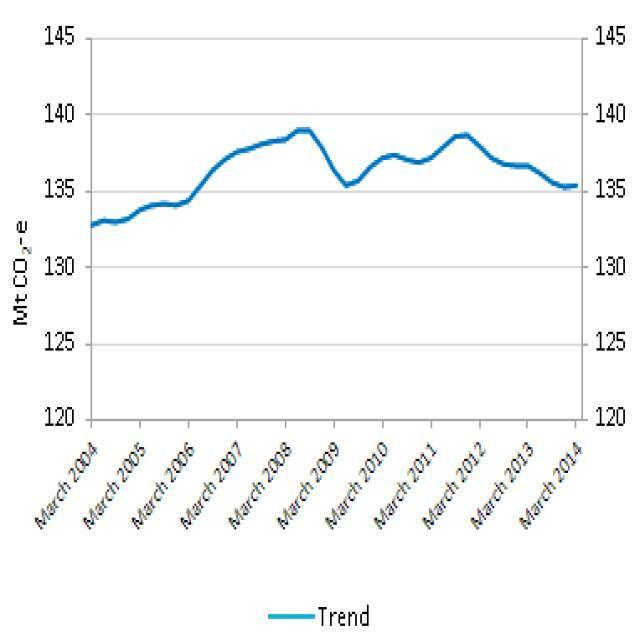axis: (83, 415, 594, 431), (80, 27, 97, 435)
line: (90, 124, 580, 234)
